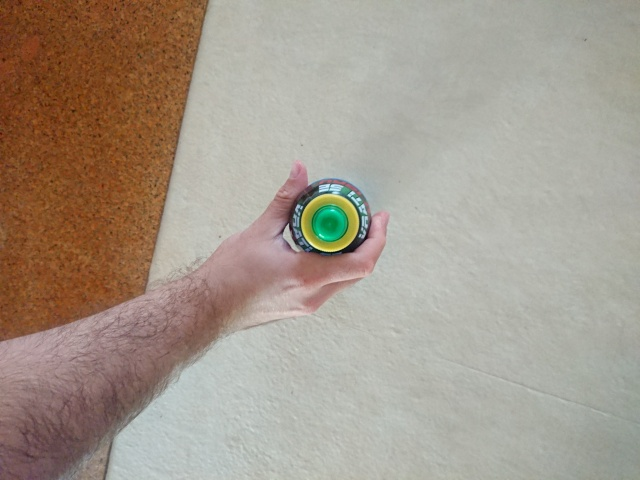Vindi Iso Sport Forest Strawberries 500mL: (286, 176, 374, 263)
